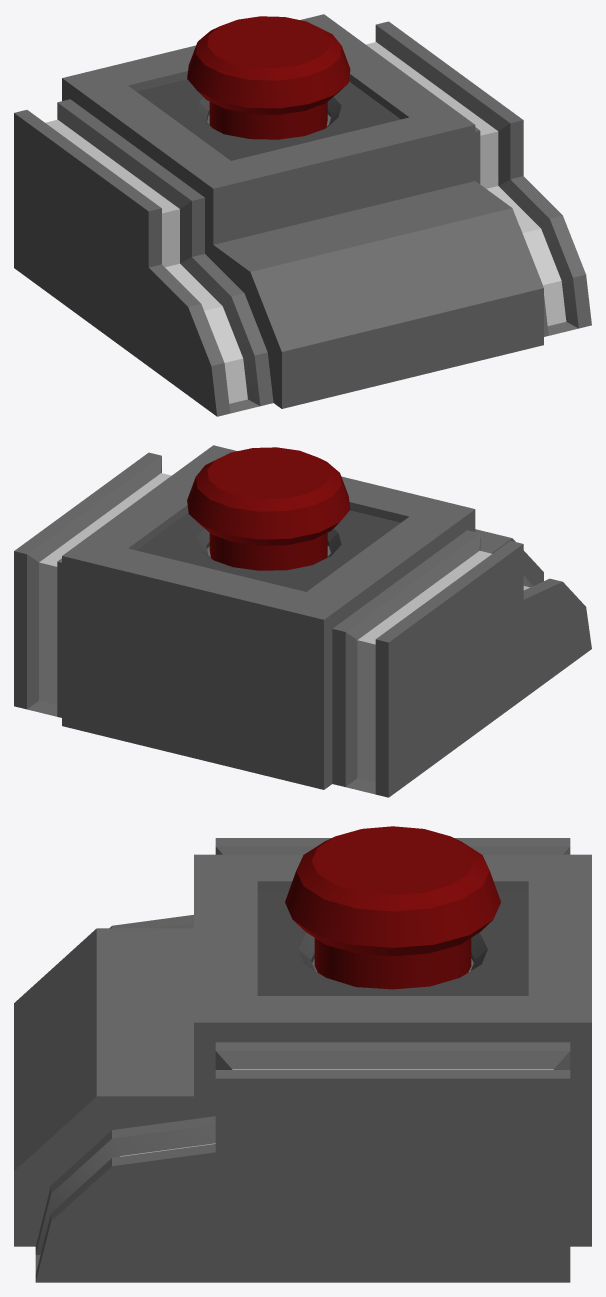
File: SM_Door_Button_Central_01.fbx
3 views of the same model, one above another, from view 1: azimuth 30°, elevation 25°; view 2: azimuth 150°, elevation 25°; view 3: azimuth 270°, elevation 25° (orthographic). The views are drawn at different scales.
Visible parts, largest first — view 1: Body, Button; view 2: Body, Button; view 3: Body, Button.
Boxes of the visible parts, <box> form: Body: <box>14,14,591,416</box>; Button: <box>187,16,350,139</box>; Body: <box>14,445,591,797</box>; Button: <box>187,447,350,570</box>; Body: <box>14,838,591,1282</box>; Button: <box>285,826,500,989</box>.
Bounding box in the file's own units: 64.74 × 37.86 × 65.74.
